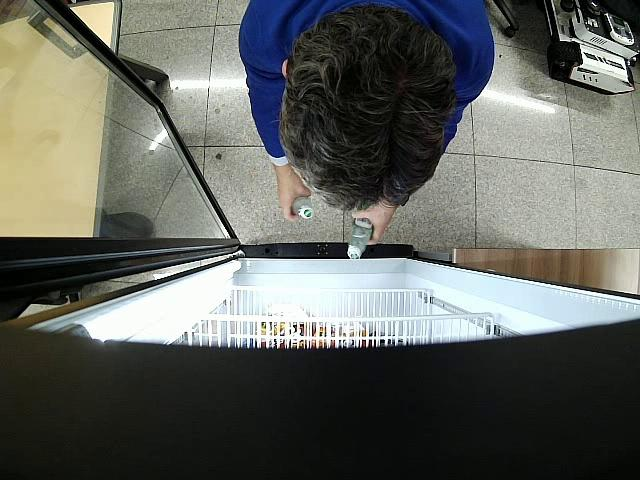00_hand: (275, 168, 310, 222), (351, 205, 393, 246)
18_trevi: (346, 218, 374, 259), (291, 196, 314, 219)
